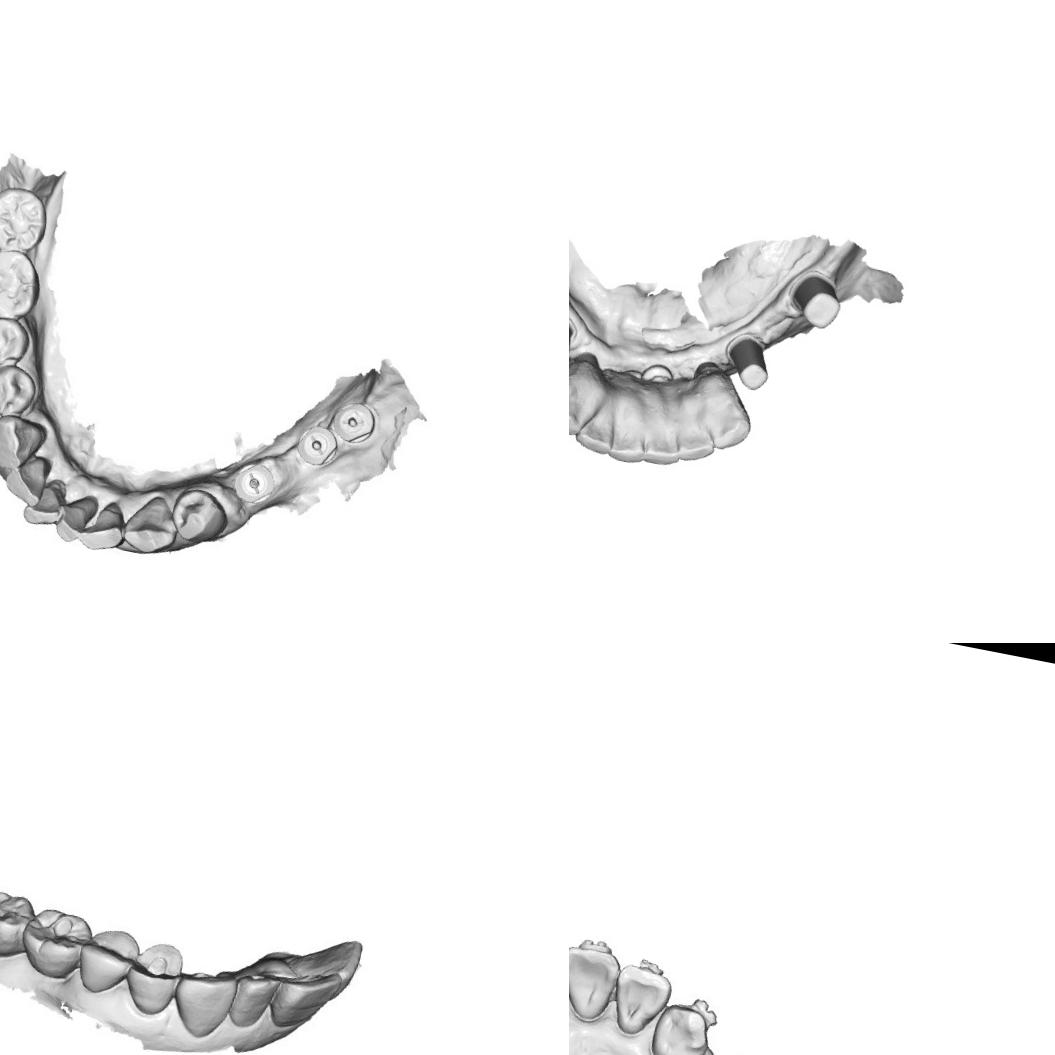abutment: (782, 266, 848, 332), (718, 330, 778, 394), (569, 308, 582, 378)
canine: (169, 961, 240, 1046), (115, 486, 184, 560), (644, 999, 715, 1055), (0, 413, 48, 472), (569, 370, 594, 438)
implant_minus: (290, 421, 344, 470), (230, 457, 278, 508), (330, 398, 380, 446)
incisor: (605, 960, 676, 1042), (569, 940, 625, 1027), (224, 964, 286, 1036), (277, 968, 337, 1032), (17, 469, 76, 532), (707, 390, 757, 457), (77, 498, 128, 554), (674, 410, 721, 470), (570, 405, 622, 458), (52, 488, 98, 543), (638, 419, 686, 470), (2, 453, 48, 504), (606, 414, 650, 467)
molar: (17, 902, 94, 985), (0, 183, 48, 258), (0, 885, 38, 963), (0, 246, 39, 319)
premolar: (74, 919, 142, 998), (121, 941, 182, 1017), (170, 486, 232, 543), (0, 363, 38, 422), (0, 316, 29, 370)
